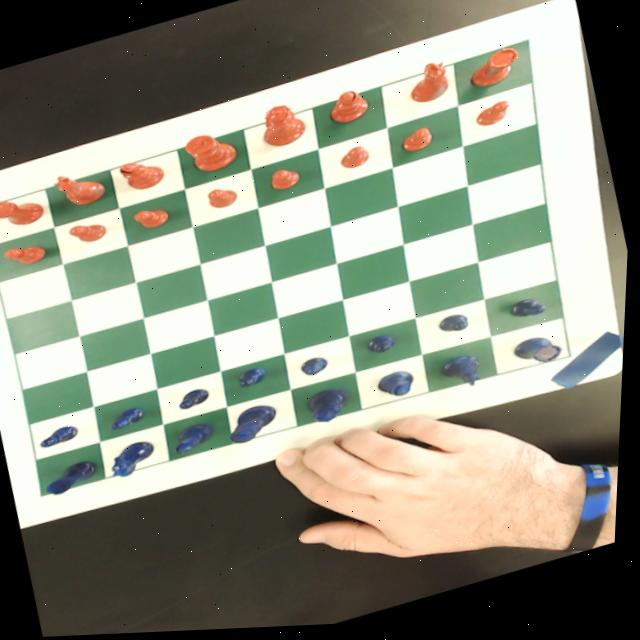B: (173, 422, 221, 458), (375, 371, 421, 407)
K: (227, 403, 284, 449)
N: (109, 440, 162, 482), (440, 354, 489, 399)
P: (108, 404, 151, 435), (509, 297, 552, 328), (39, 423, 83, 451), (437, 314, 474, 342), (364, 334, 401, 361), (175, 388, 214, 413), (235, 368, 271, 394), (300, 357, 333, 382)
Q: (306, 387, 356, 430)
R: (510, 335, 566, 379), (45, 458, 104, 499)
b: (117, 154, 170, 198), (324, 89, 374, 132)
k: (182, 127, 242, 180)
n: (51, 162, 111, 213), (402, 63, 454, 111)
p: (3, 239, 50, 272), (66, 218, 110, 249), (472, 103, 515, 134), (397, 128, 437, 160), (131, 205, 173, 234), (336, 146, 373, 177), (268, 167, 303, 196), (205, 186, 240, 214)
q: (255, 102, 310, 153)
r: (463, 48, 526, 96), (0, 189, 48, 234)
